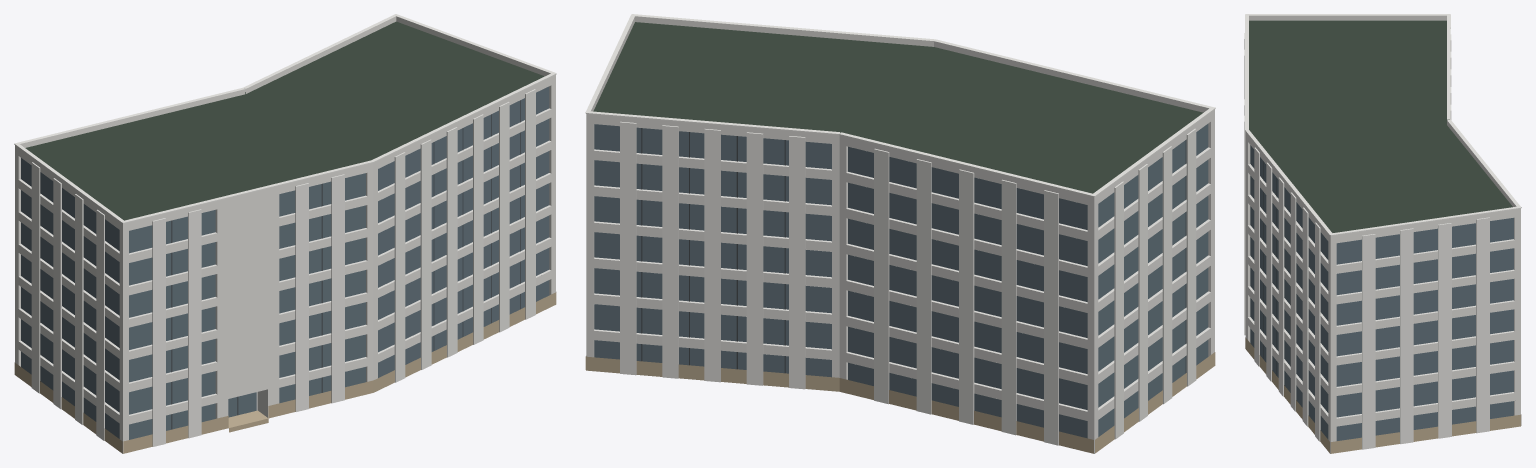
3 renders of one model, left to right at view 1: azimuth 30°, elevation 25°; view 2: azimuth 150°, elevation 25°; view 3: azimuth 270°, elevation 25°, orthographic. The views are drawn at different scales.
Parts seen in each view (by area): view 1: eh201__glass, eh201__roof, eh201__wall, eh201__trim, eh201__parapet, eh201__base, eh201__frame; view 2: eh201__glass, eh201__trim, eh201__roof, eh201__wall, eh201__parapet, eh201__base, eh201__frame; view 3: eh201__roof, eh201__glass, eh201__trim, eh201__wall, eh201__parapet, eh201__base, eh201__frame.
Part boxes in pixels (<box>): eh201__glass: <box>21,86,549,439</box>; eh201__roof: <box>25,21,544,220</box>; eh201__wall: <box>15,78,555,453</box>; eh201__trim: <box>14,14,556,446</box>; eh201__parapet: <box>15,16,555,227</box>; eh201__base: <box>14,292,556,453</box>; eh201__frame: <box>40,100,520,429</box>; eh201__glass: <box>594,124,1208,438</box>; eh201__trim: <box>585,14,1215,445</box>; eh201__roof: <box>593,22,1203,453</box>; eh201__wall: <box>586,114,1214,453</box>; eh201__parapet: <box>586,16,1214,201</box>; eh201__base: <box>585,352,1215,453</box>; eh201__frame: <box>641,128,1186,373</box>; eh201__roof: <box>1249,20,1512,453</box>; eh201__glass: <box>1250,145,1513,440</box>; eh201__trim: <box>1244,14,1521,449</box>; eh201__wall: <box>1245,135,1520,453</box>; eh201__parapet: <box>1245,15,1520,239</box>; eh201__base: <box>1245,337,1521,453</box>; eh201__frame: <box>1263,161,1290,392</box>.
Size of the model in its own units: 48.19 by 22.6 by 25.47.
